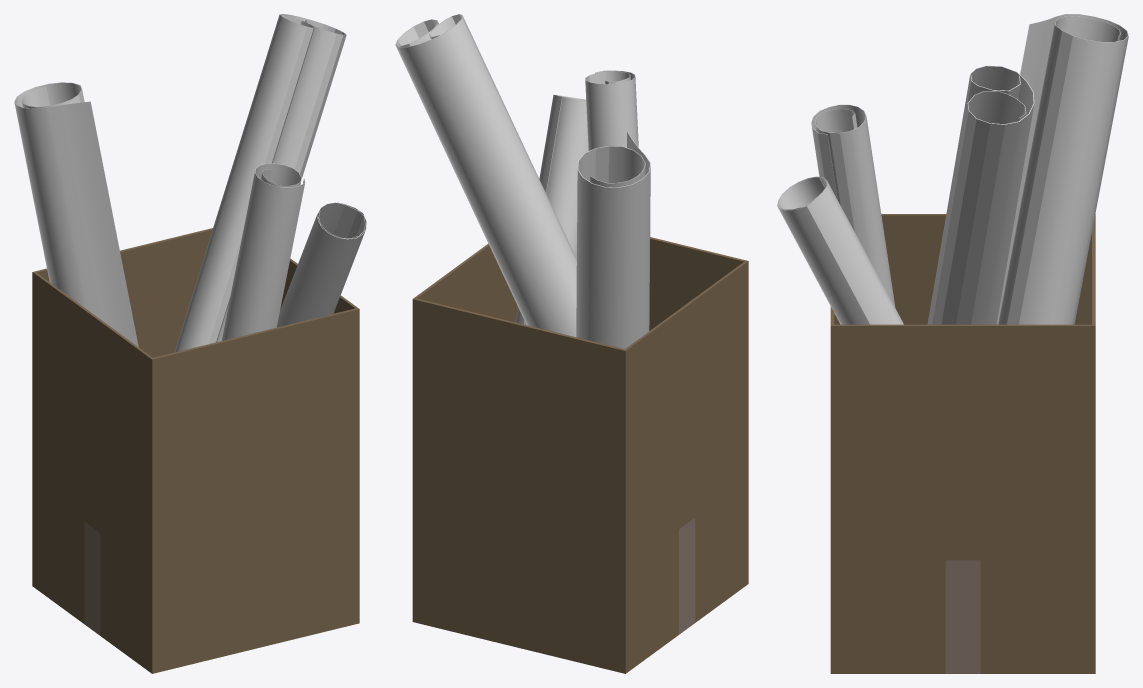
Rendered from Cardboard_paper.glb.
3 renders of one model, left to right at view 1: azimuth 30°, elevation 25°; view 2: azimuth 150°, elevation 25°; view 3: azimuth 270°, elevation 25°, orthographic. The views are drawn at different scales.
Parts seen in each view (by area): view 1: cardboard, paper.001, paper.002, paper, paper.003; view 2: cardboard, paper.002, paper.001, paper.003, paper; view 3: cardboard, paper.001, paper.002, paper.003, paper.
Boxes of the visible parts, box(x1,y1,x2,y2) form: cardboard: box(32, 228, 359, 673); paper.001: box(14, 82, 138, 346); paper.002: box(174, 14, 346, 352); paper: box(221, 163, 305, 340); paper.003: box(277, 202, 366, 327); cardboard: box(412, 237, 748, 673); paper.002: box(395, 14, 576, 336); paper.001: box(576, 131, 650, 348); paper.003: box(515, 94, 588, 324); paper: box(585, 70, 638, 150); cardboard: box(830, 214, 1095, 673); paper.001: box(996, 14, 1128, 324); paper.002: box(927, 65, 1034, 324); paper.003: box(777, 176, 903, 324); paper: box(811, 104, 895, 307).
Bounding box in the file's own units: 2.7 × 5.07 × 2.65.
